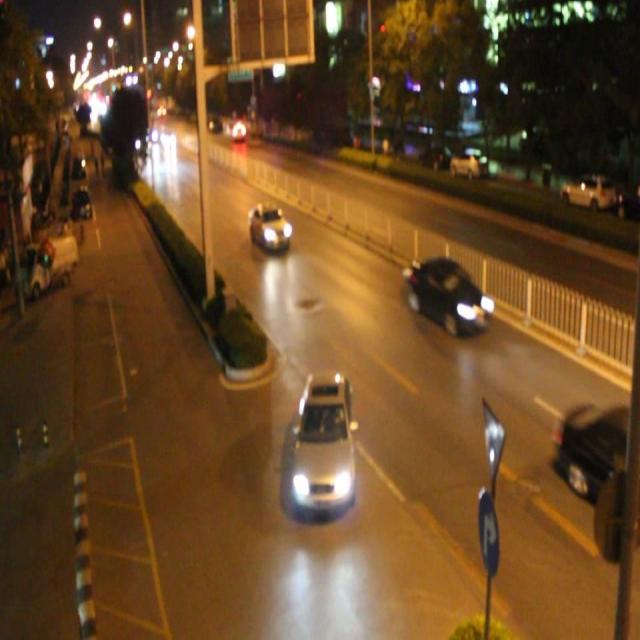car: (558, 401, 640, 543), (292, 368, 354, 511), (405, 252, 493, 338), (248, 201, 292, 249), (232, 121, 247, 141), (162, 130, 176, 149)
